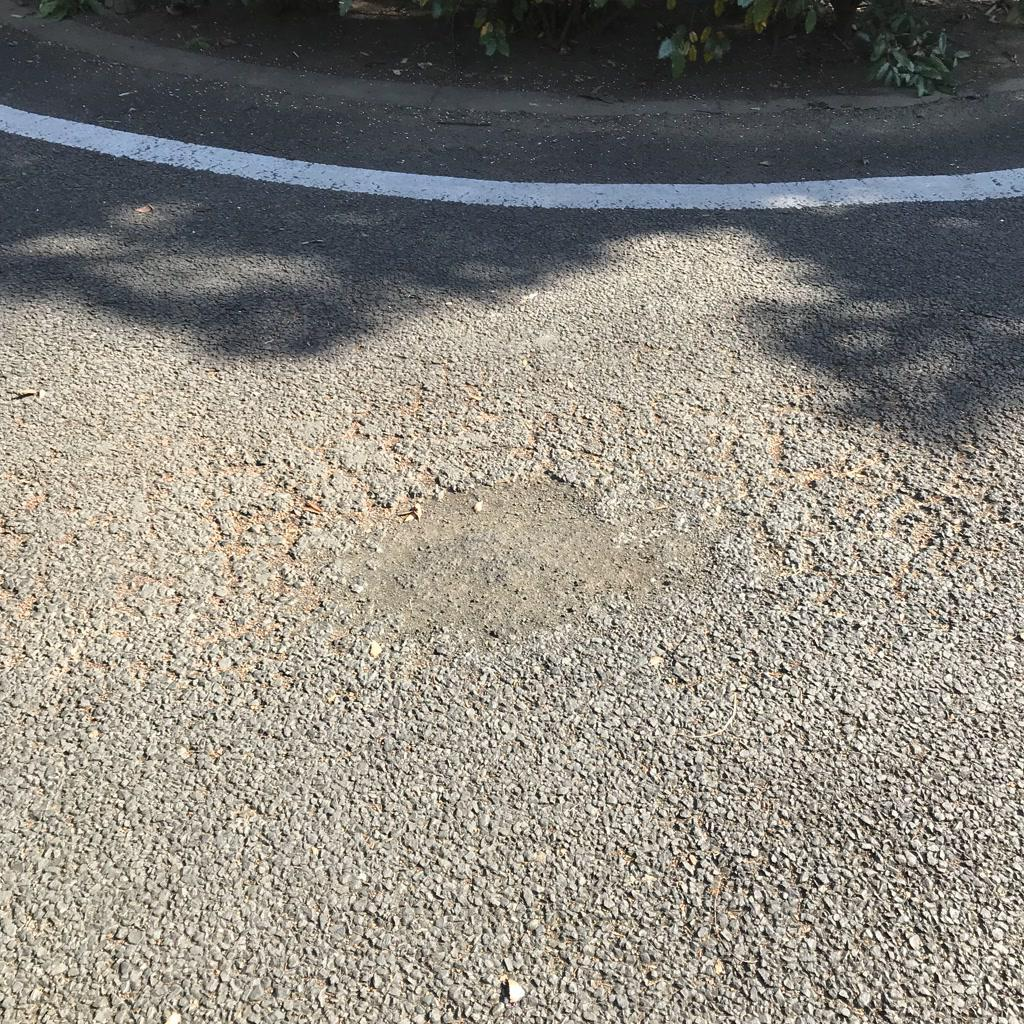D40: (331, 433, 691, 661)
